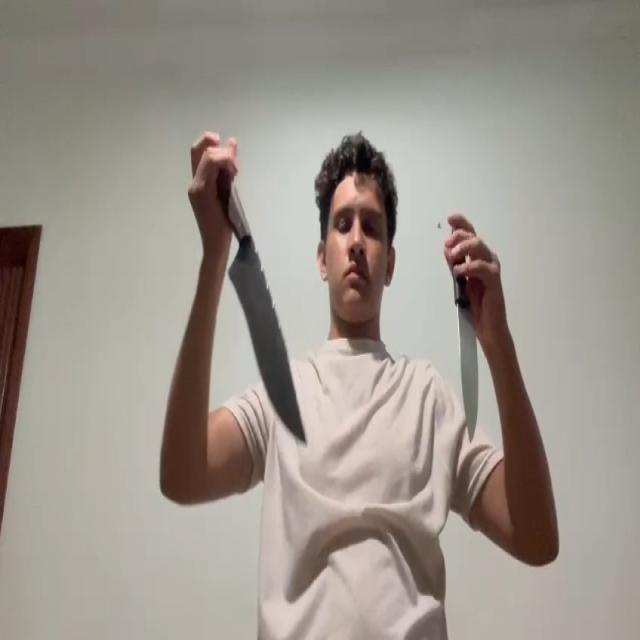knife: (225, 240, 308, 444), (456, 301, 481, 441)
